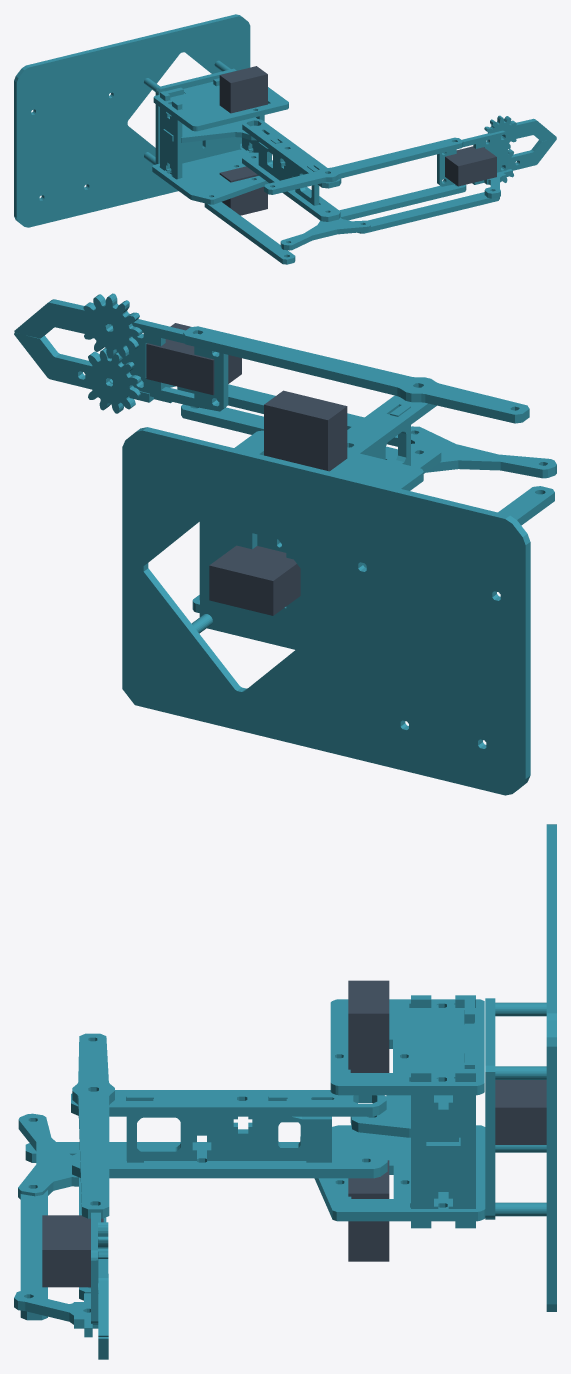
Rendered from mearm_assembled.glb.
The picture shows the model from 3 angles, top to bottom: view 1: azimuth 30°, elevation 25°; view 2: azimuth 150°, elevation 25°; view 3: azimuth 270°, elevation 25°; orthographic projection. The views are drawn at different scales.
Visible parts, largest first — view 1: base, yaw, forearm, upper, left_servo, hand, gripper_servo, forearm_parallel, upper_parallel, elbow_comp, right_servo, left_finger (+1 smaller); view 2: base, forearm, left_servo, base_servo, right_finger, left_finger, upper, hand, gripper_servo, elbow_comp, yaw, forearm_parallel (+1 smaller); view 3: yaw, upper, base, forearm, left_servo, gripper_servo, base_servo, elbow_comp, hand, right_servo, forearm_parallel, left_finger (+1 smaller).
Boxes of the visible parts, x1,y1,x2,y2 form: base: (14,14,250,227); yaw: (152,78,288,204); forearm: (264,137,466,220); upper: (242,119,341,221); left_servo: (219,66,267,113); hand: (437,130,512,198); gripper_servo: (445,146,496,186); forearm_parallel: (357,192,499,233); upper_parallel: (204,202,295,264); elbow_comp: (280,217,370,250); right_servo: (219,166,267,215); left_finger: (484,115,556,149); base: (122,427,530,795); forearm: (181,326,529,459); left_servo: (264,390,347,471); base_servo: (209,545,300,615); right_finger: (14,333,141,413); left_finger: (14,293,142,358); upper: (347,395,441,473); hand: (105,319,228,411); gripper_servo: (146,323,241,394); elbow_comp: (411,426,556,478); yaw: (192,430,423,616); forearm_parallel: (177,384,416,446); yaw: (300,995,485,1228); upper: (71,1090,387,1178); base: (485,824,556,1311); forearm: (72,1033,114,1300); left_servo: (348,980,389,1072); gripper_servo: (42,1215,103,1287); base_servo: (495,1080,546,1144); elbow_comp: (18,1113,78,1199); hand: (14,1205,100,1337); right_servo: (348,1160,389,1261); forearm_parallel: (20,1190,47,1320); left_finger: (98,1222,108,1336).
Bounding box in the file's own units: 0.2597 × 0.095 × 0.1587.
